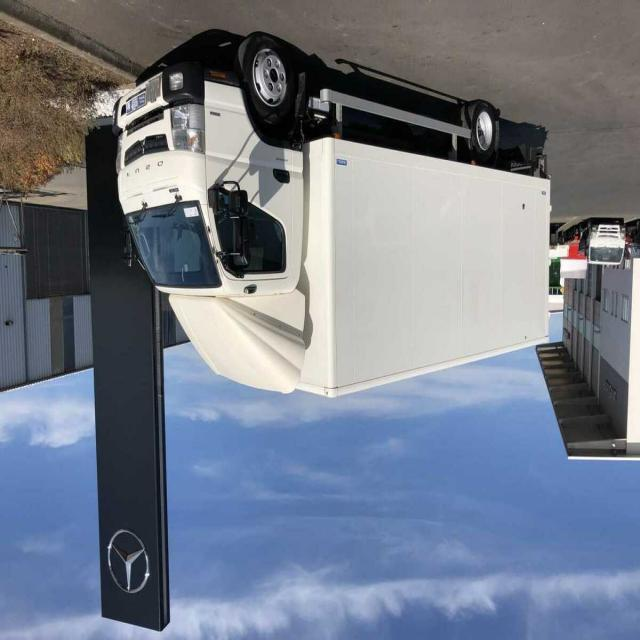truck: (115, 34, 550, 398)
